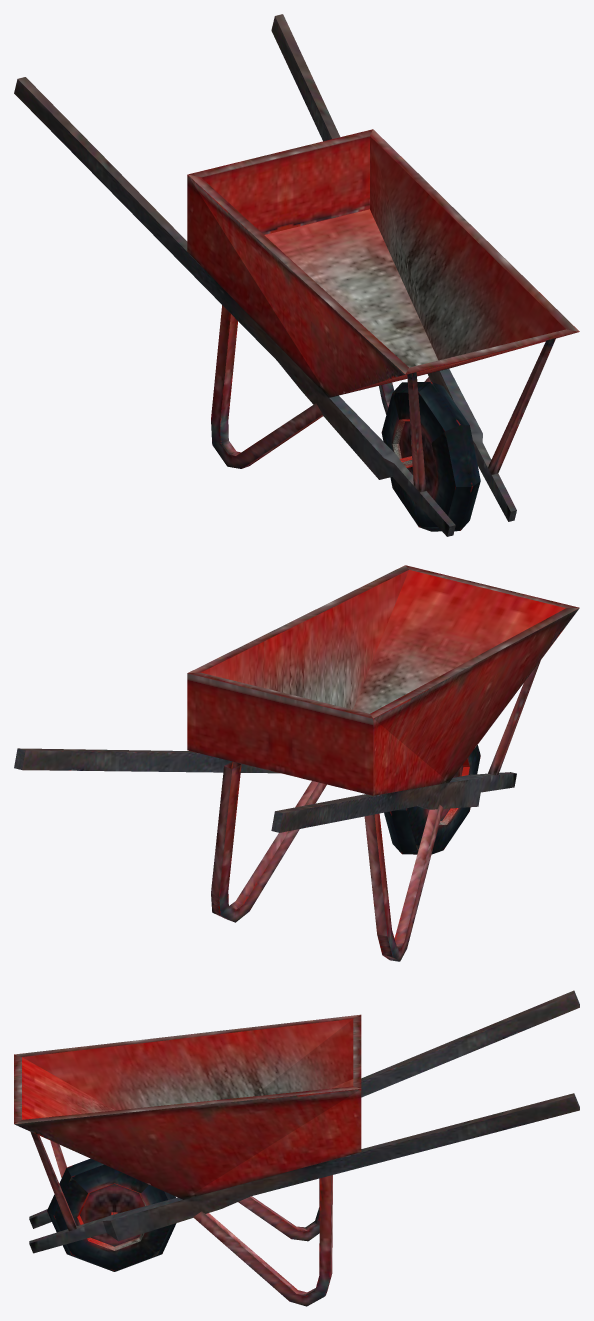
Rendered from Wheelbarrow01.obj.
3 renders of one model, top to bottom at view 1: azimuth 30°, elevation 25°; view 2: azimuth 150°, elevation 25°; view 3: azimuth 270°, elevation 25°, orthographic. The views are drawn at different scales.
Visible parts, largest first — view 1: Wheelbarrow01; view 2: Wheelbarrow01; view 3: Wheelbarrow01.
Boxes of the visible parts, x1,y1,x2,y2 form: Wheelbarrow01: (14,14,579,536); Wheelbarrow01: (14,565,579,961); Wheelbarrow01: (14,990,579,1306).
Bounding box in the file's own units: 2.19 × 2.21 × 4.94.
